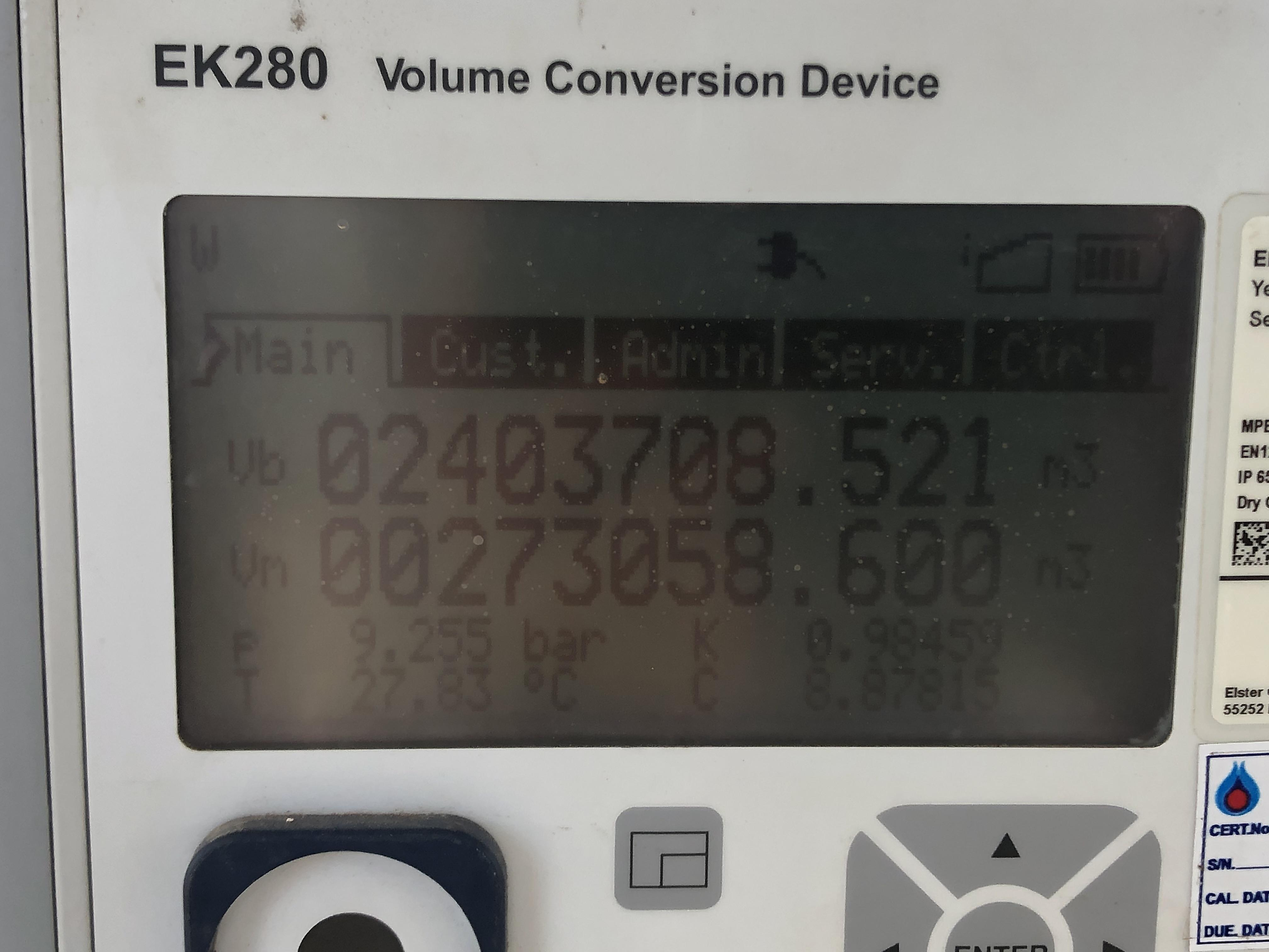digital_screen: (166, 202, 1201, 749)
